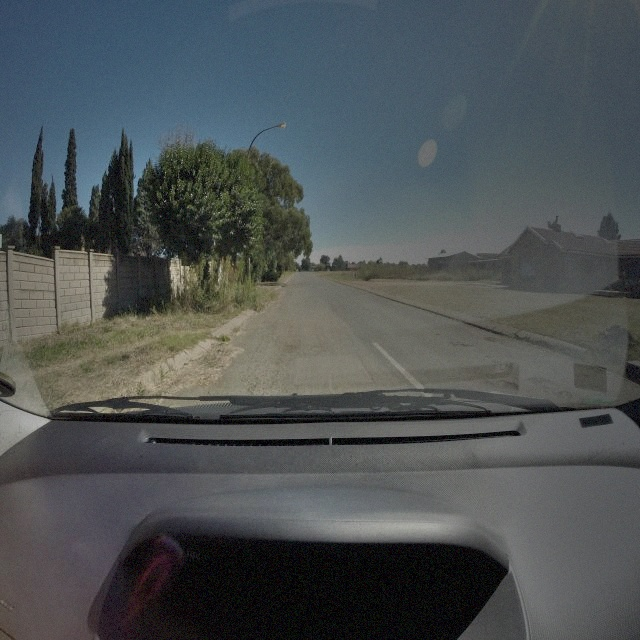pothole: (485, 336, 496, 345)
